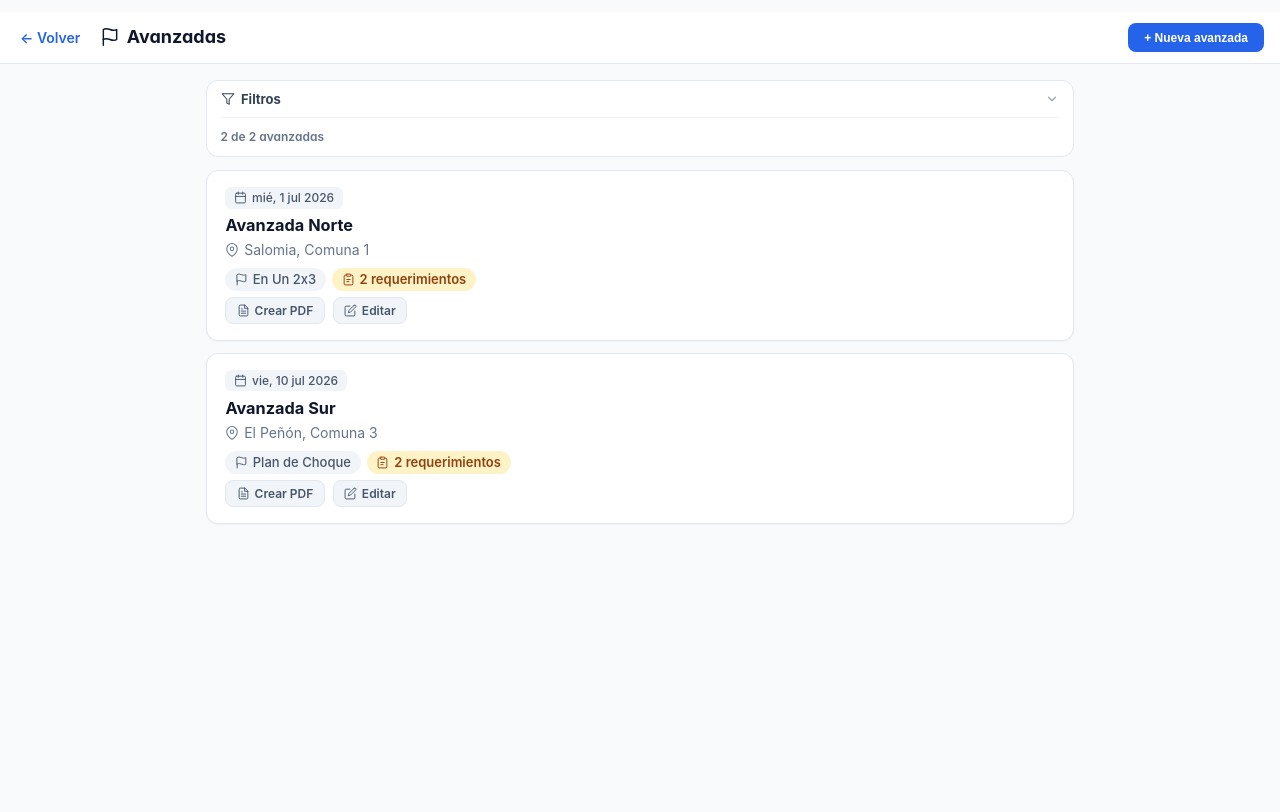
Test: ListaAvanzadas › filter bar › filters rendered cards by free text and updates the 'N de M' count
expect the text "2 de 2 avanzadas" is shown: met, box [221,127,324,146]
Click the button "Filtros" at [261, 99], box [221,91,1059,107]
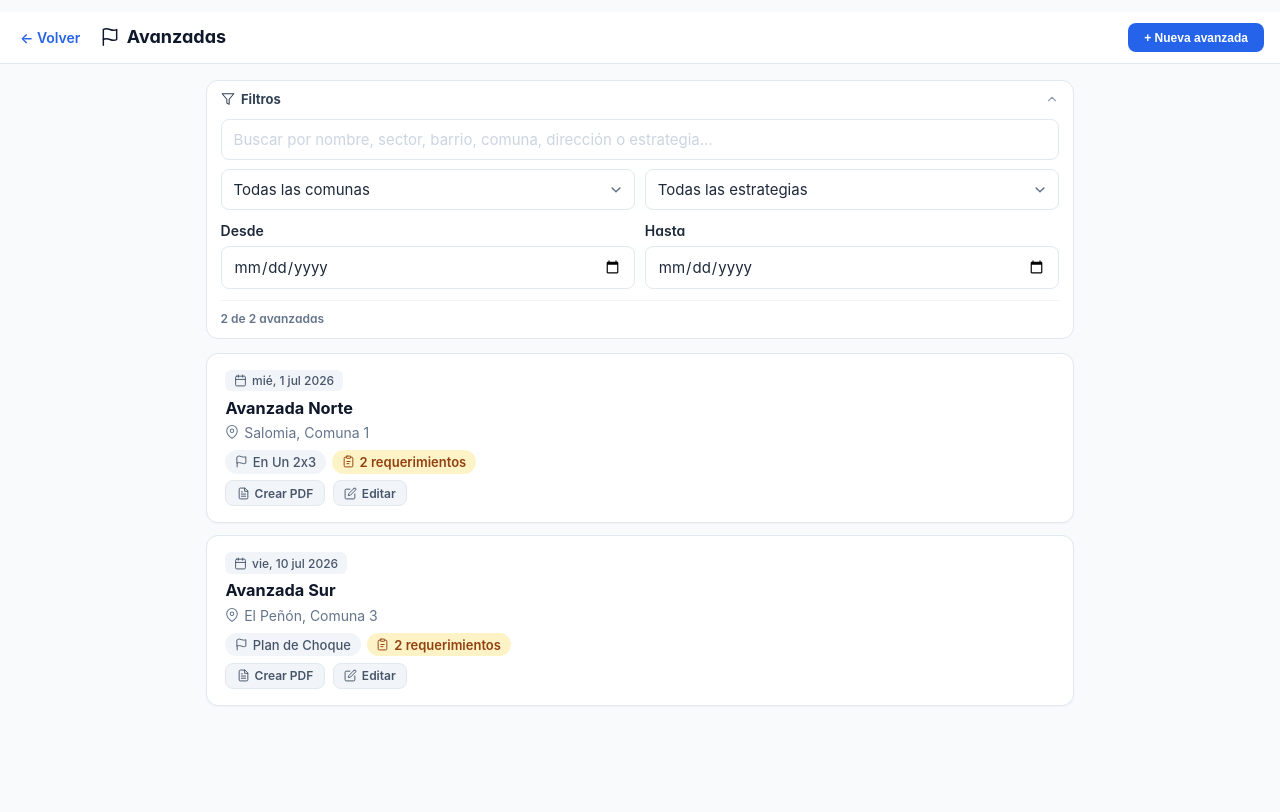
Replace the text in the field with placeholder "Buscar por nombre" with "Norte" at [640, 139], box [221,119,1059,160]
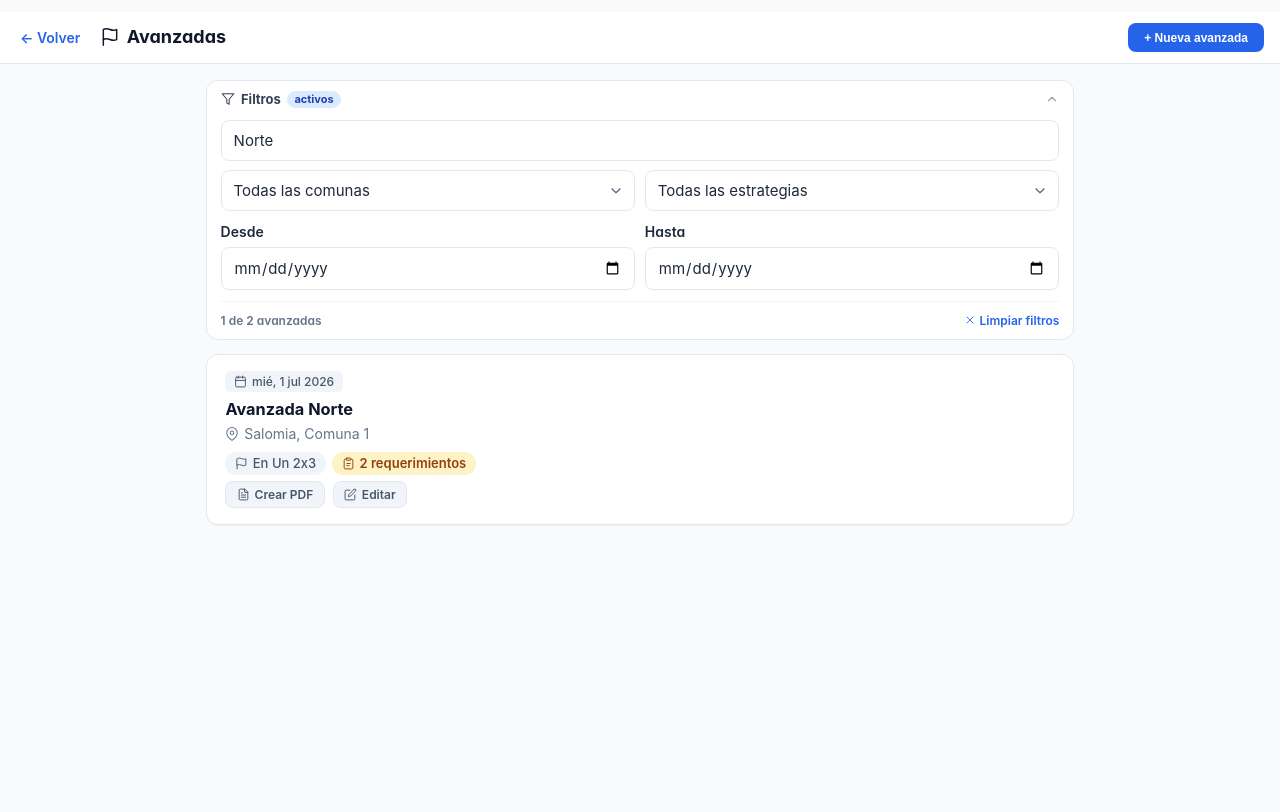
expect the heading "Avanzada Norte" is shown: met, box [225,399,353,419]
expect the button "Avanzada Sur" is gone: met
expect the text "1 de 2 avanzadas" is shown: met, box [221,310,322,330]
